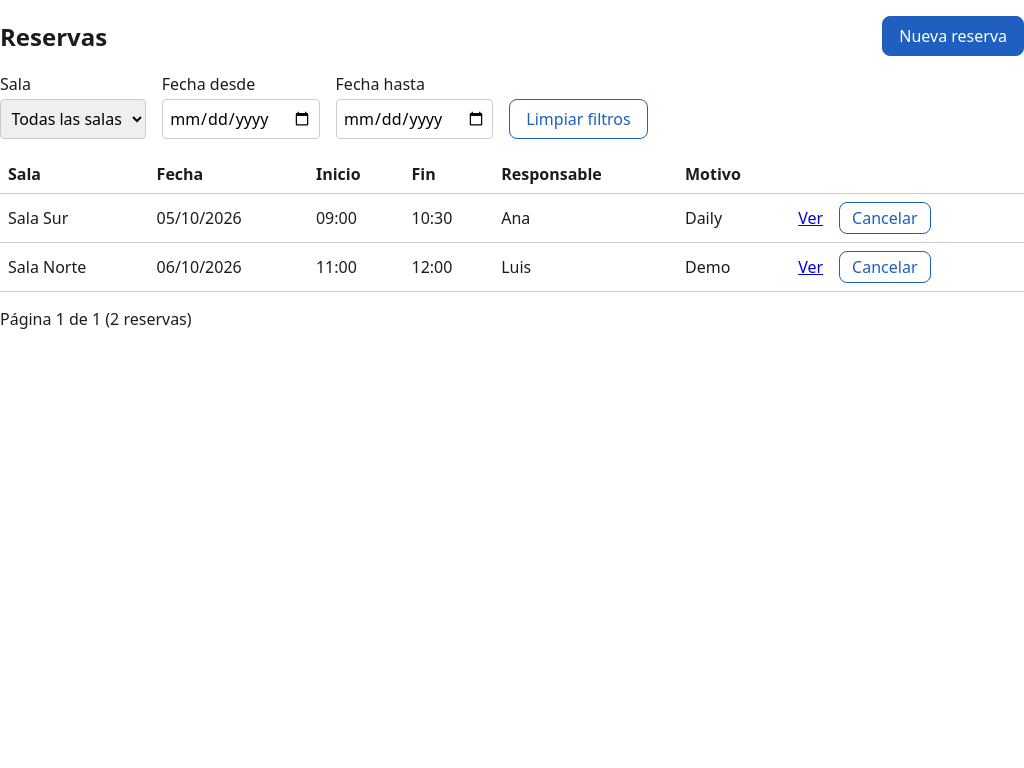
Test: ReservaListComponent › ver y cancelar › 404: mensaje claro, quita la fila y refresca el listado
Click the button "Cancelar" in the row of "Sala Sur" at {"x": 885, "y": 218}, box [839, 202, 930, 234]
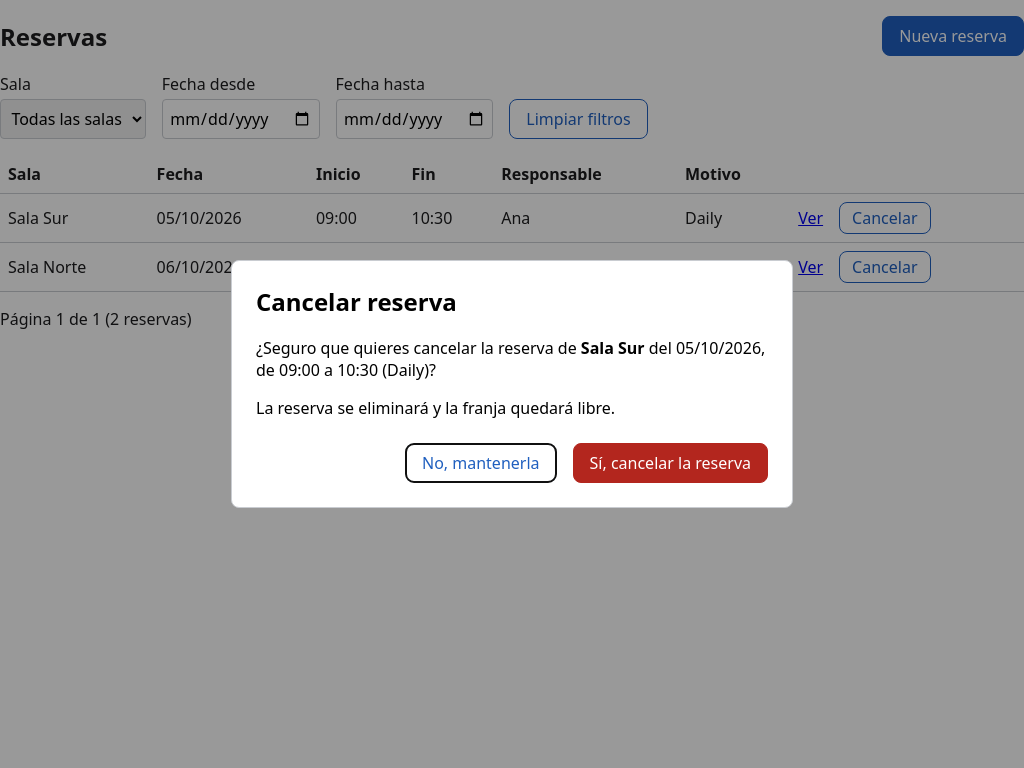
Click the button "Sí, cancelar la reserva" at {"x": 670, "y": 464}, box [572, 444, 768, 484]
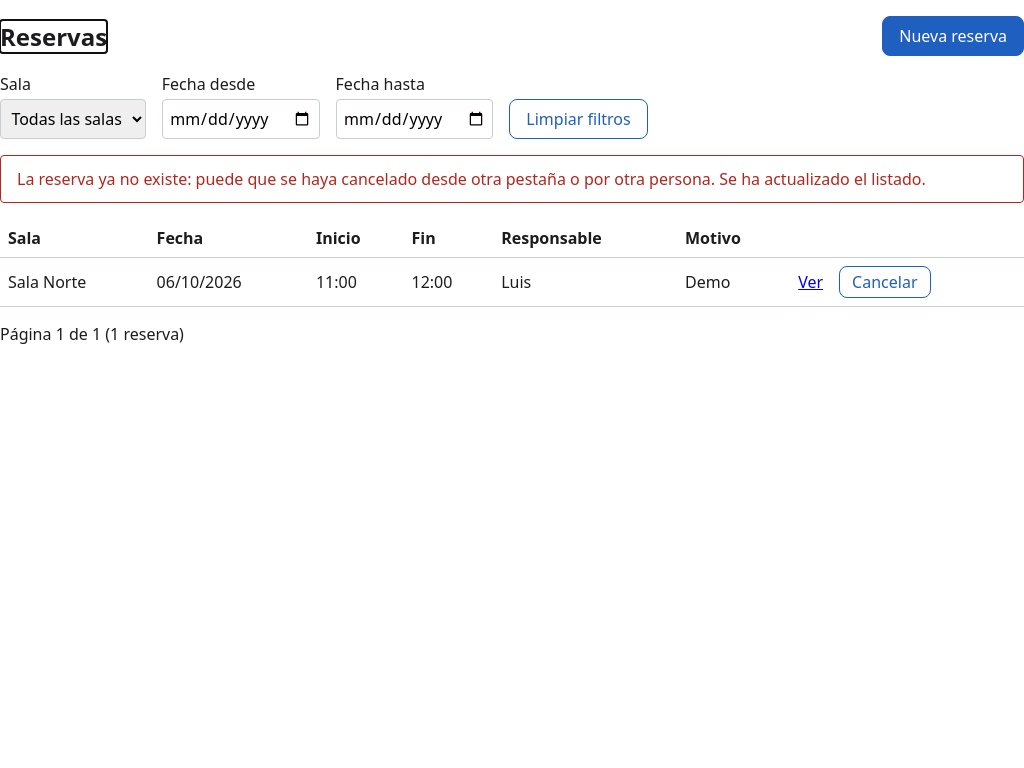
Expected: the message with class "error-general" shows "La reserva ya no existe", [17, 168, 926, 190]
